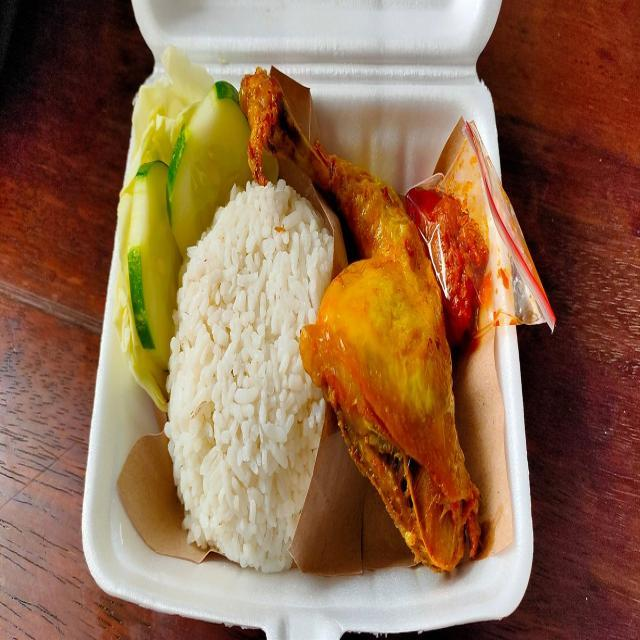ayam_goreng: (294, 57, 460, 596)
nasi_putih: (178, 191, 302, 563)
